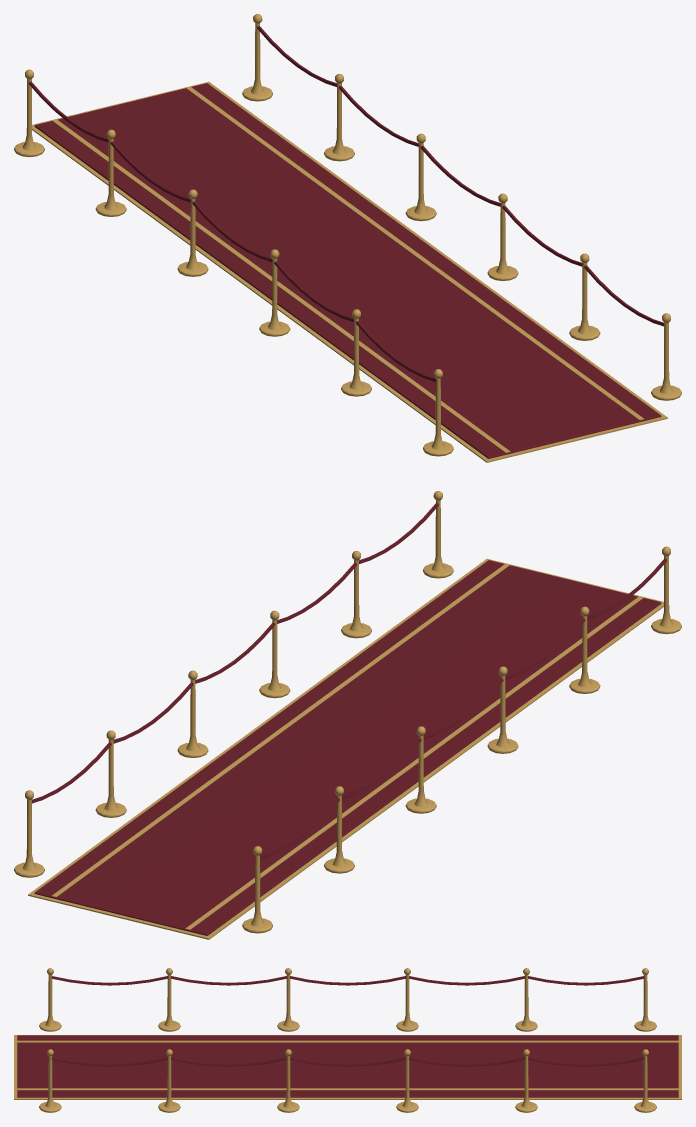
The model's file is red_carpet_set.glb.
The picture shows the model from 3 angles, top to bottom: view 1: azimuth 30°, elevation 25°; view 2: azimuth 150°, elevation 25°; view 3: azimuth 270°, elevation 25°; orthographic projection. The views are drawn at different scales.
Visible parts, largest first — view 1: red_carpet_set; view 2: red_carpet_set; view 3: red_carpet_set.
Part boxes in pixels (box(x1,y1,x2,y2)): red_carpet_set: box(14, 14, 681, 462); red_carpet_set: box(14, 491, 681, 939); red_carpet_set: box(14, 968, 681, 1112).
Size of the model in its own units: 3.24 by 0.9855 by 10.1.
